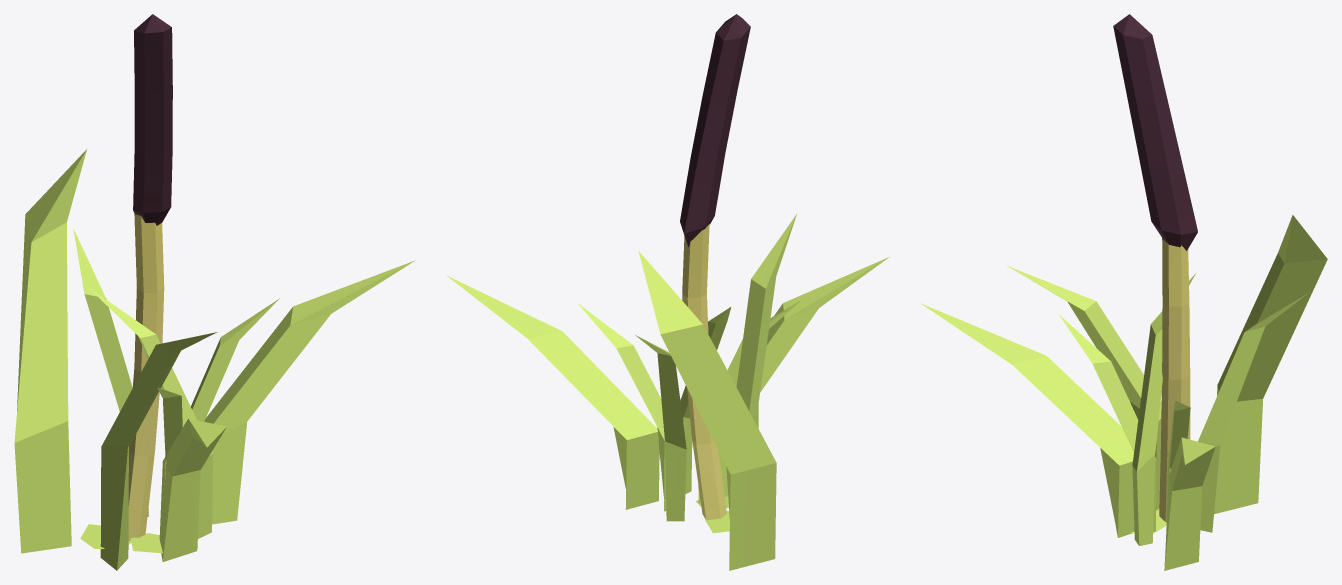
The model's file is kamysh6.fbx.
3 renders of one model, left to right at view 1: azimuth 30°, elevation 25°; view 2: azimuth 150°, elevation 25°; view 3: azimuth 270°, elevation 25°, orthographic. The views are drawn at different scales.
Parts seen in each view (by area): view 1: Cone.002; view 2: Cone.002; view 3: Cone.002.
Part boxes in pixels (x1,y1,x2,y2): Cone.002: (14,14,415,570); Cone.002: (446,14,889,570); Cone.002: (920,14,1327,570).
Bounding box in the file's own units: 59.68 × 82.2 × 58.71.
